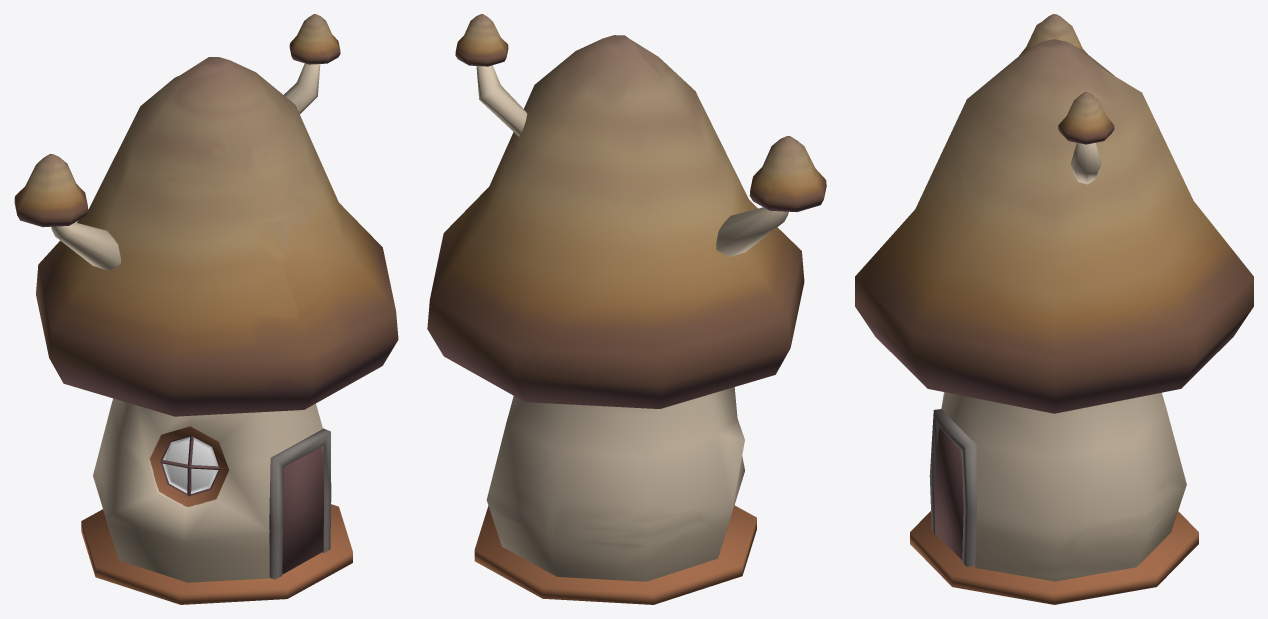
File: toko_1.fbx
3 renders of one model, left to right at view 1: azimuth 30°, elevation 25°; view 2: azimuth 150°, elevation 25°; view 3: azimuth 270°, elevation 25°, orthographic. The views are drawn at different scales.
Parts seen in each view (by area): view 1: toko-jamur; view 2: toko-jamur; view 3: toko-jamur.
Part boxes in pixels (left/top/right/bottom): toko-jamur: left=14, top=14, right=398, bottom=604; toko-jamur: left=427, top=14, right=826, bottom=604; toko-jamur: left=855, top=14, right=1253, bottom=604.
Size of the model in its own units: 127 by 163 by 116.
